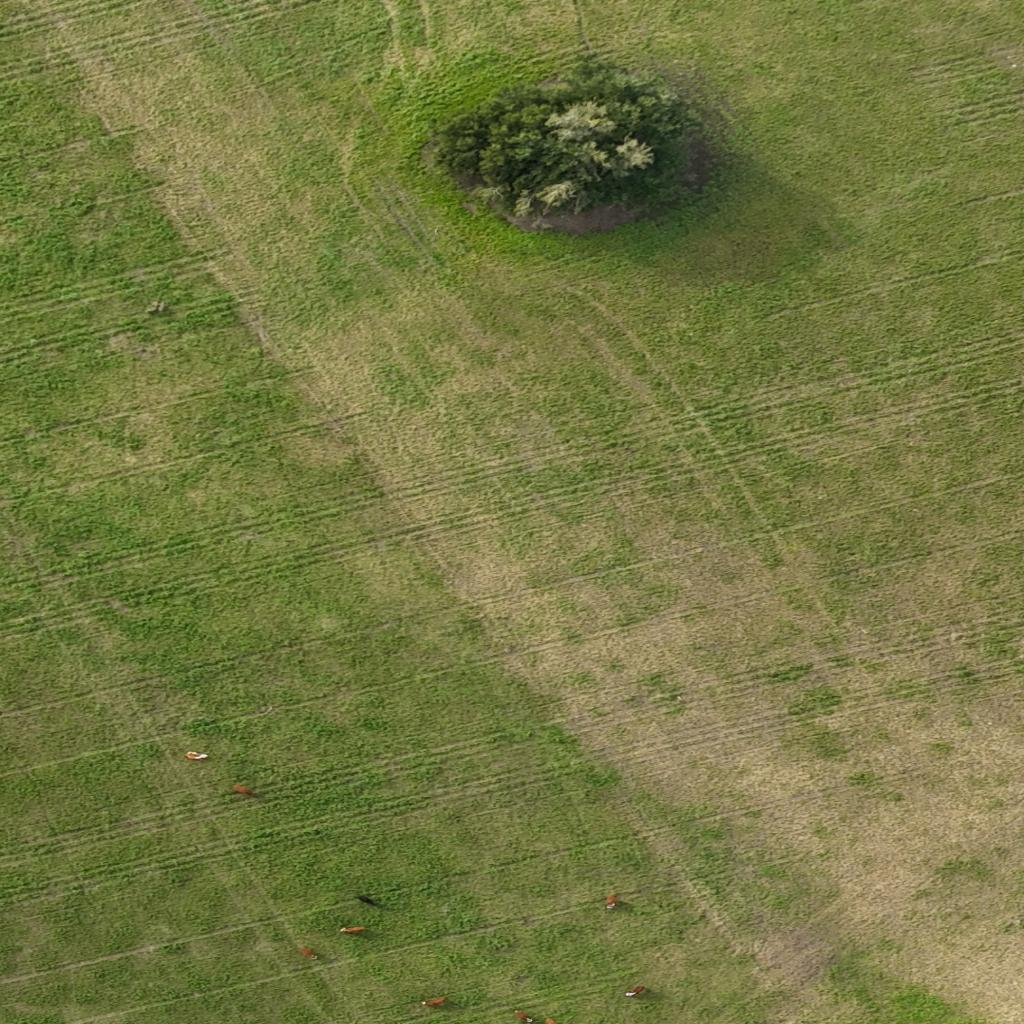cow: (230, 782, 261, 797), (417, 996, 445, 1010), (601, 893, 620, 910), (356, 895, 380, 907), (622, 986, 644, 999), (339, 926, 369, 935), (298, 947, 318, 960), (186, 750, 210, 760), (513, 1008, 531, 1021), (543, 1018, 557, 1024)
